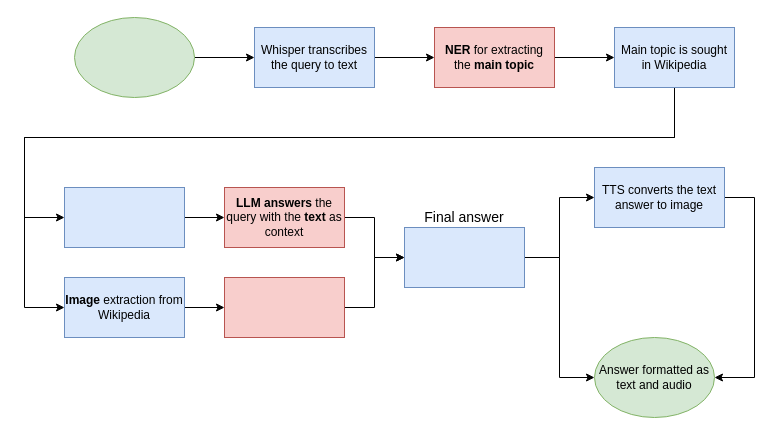
Image size: 780x435. Some labels were removed from this diagram. The box of each missing label's shape, as (x1, y1, x2, y2) in pixels:
Audio recording of the query: (74, 16, 194, 98)
LLM answers the query with the image as context: (224, 276, 344, 338)
Text answer + Image answer: (404, 226, 524, 288)
Text extraction from Wikipedia: (64, 186, 184, 248)
